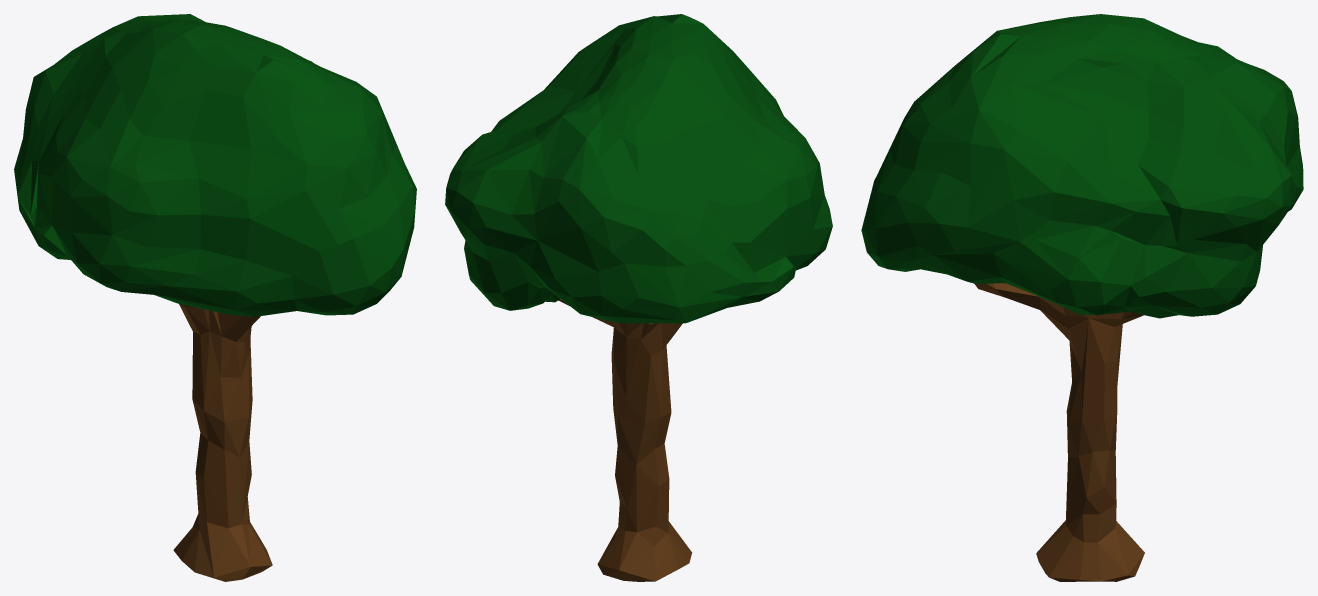
File: tamm2.fbx
3 renders of one model, left to right at view 1: azimuth 30°, elevation 25°; view 2: azimuth 150°, elevation 25°; view 3: azimuth 270°, elevation 25°, orthographic. The views are drawn at different scales.
Parts seen in each view (by area): view 1: Cube.001; view 2: Cube.001; view 3: Cube.001.
Part boxes in pixels (x1,y1,x2,y2): Cube.001: (14,14,416,581); Cube.001: (445,14,832,581); Cube.001: (861,14,1303,581).
Bounding box in the file's own units: 2230 × 3456 × 2579.
